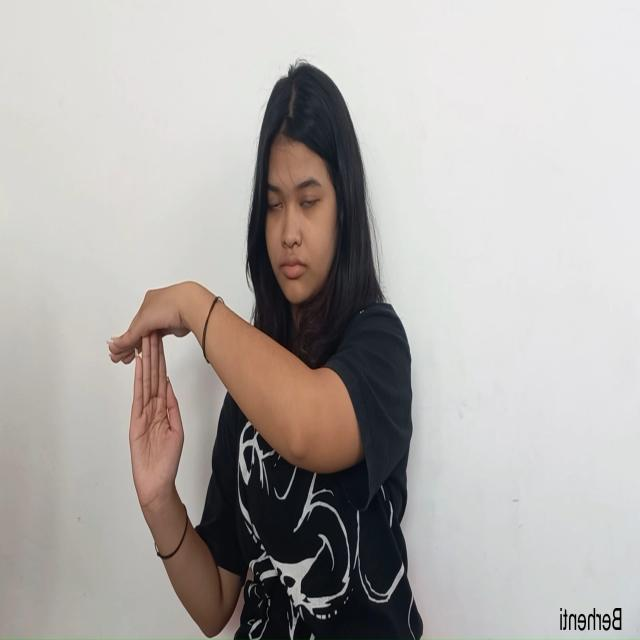Berhenti -BISINDO-: (105, 277, 201, 522)
